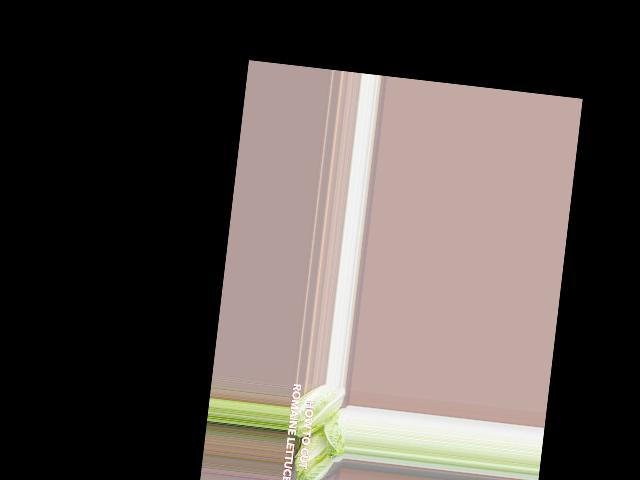lettuce: (287, 420, 341, 480)
